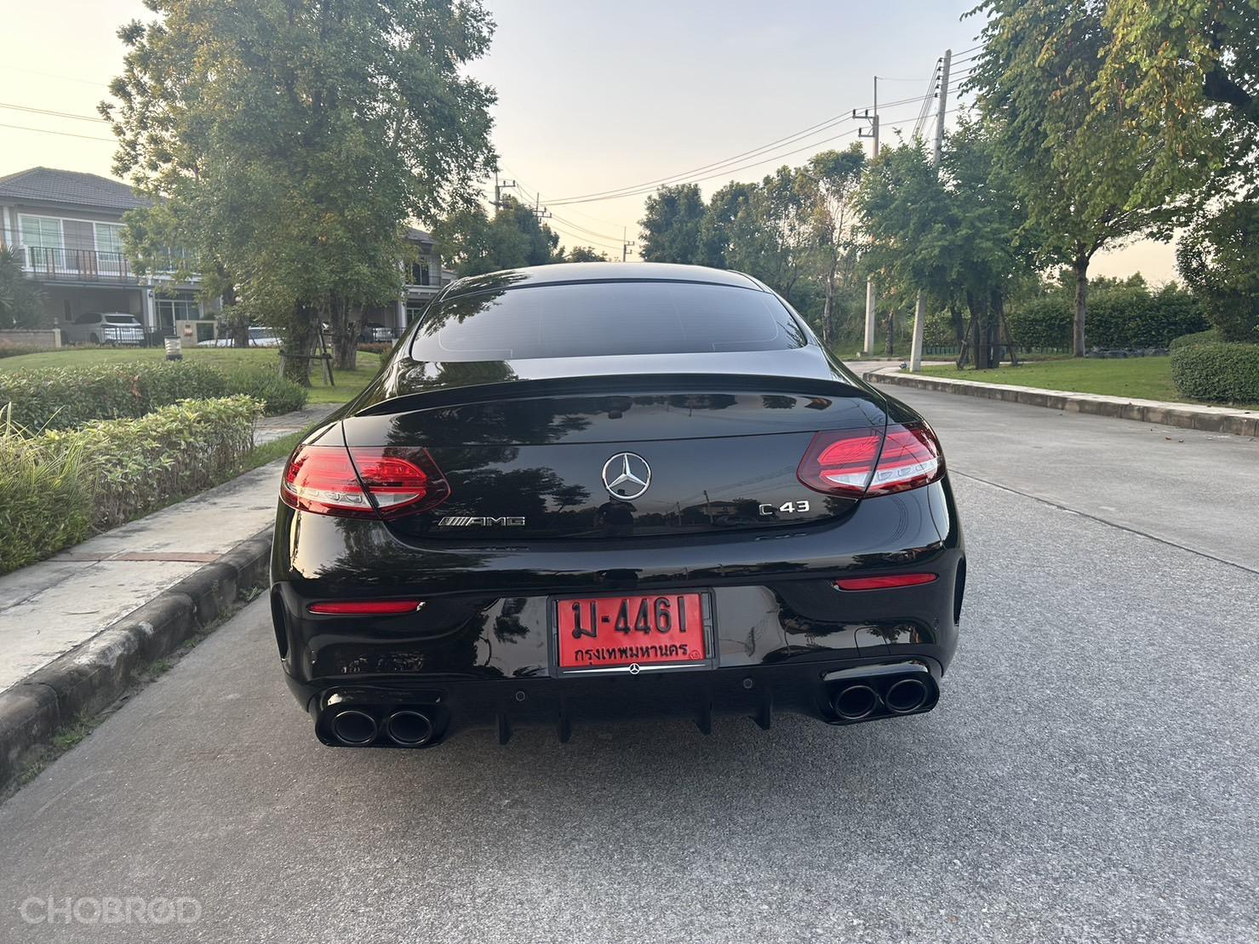license-plate: (543, 582, 721, 682)
